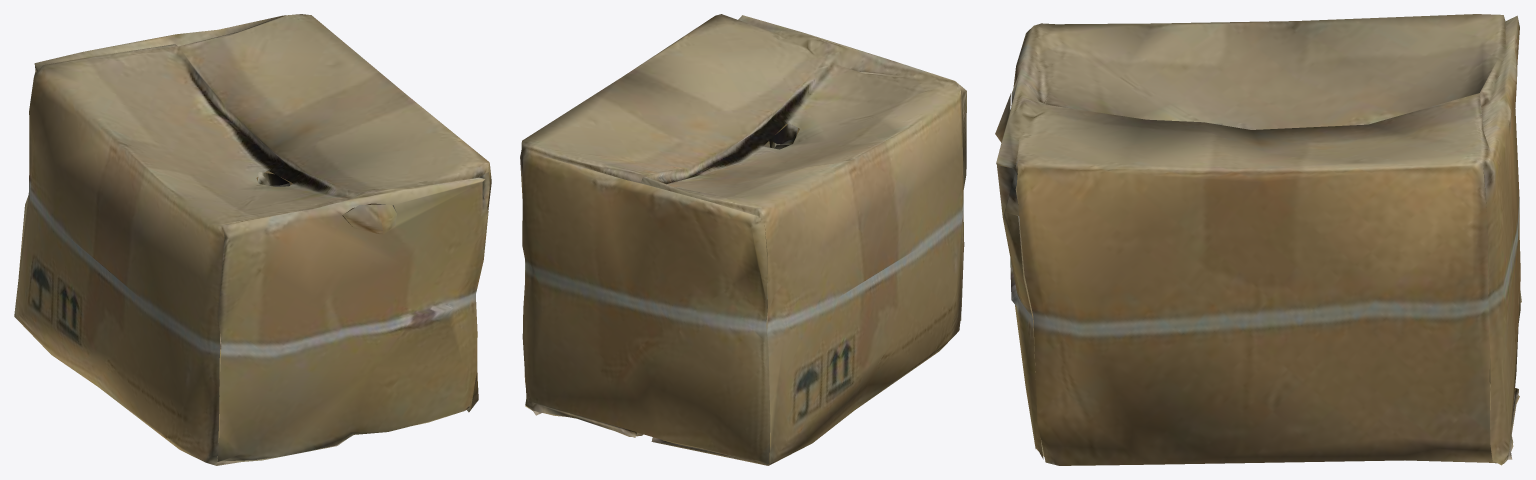
File: cardboard_box_01.glb
3 views of the same model, side by side, from view 1: azimuth 30°, elevation 25°; view 2: azimuth 150°, elevation 25°; view 3: azimuth 270°, elevation 25° (orthographic). The views are drawn at different scales.
Visible parts, largest first — view 1: cardboard_box_01; view 2: cardboard_box_01; view 3: cardboard_box_01.
Part boxes in pixels (left/top/right/bottom): cardboard_box_01: left=14, top=14, right=491, bottom=465; cardboard_box_01: left=520, top=14, right=966, bottom=465; cardboard_box_01: left=995, top=14, right=1521, bottom=465.
Bounding box in the file's own units: 0.3873 × 0.34 × 0.5155.
1 material, 1 textured.
